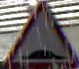Speed Breaker ahead: (4, 0, 78, 68)
